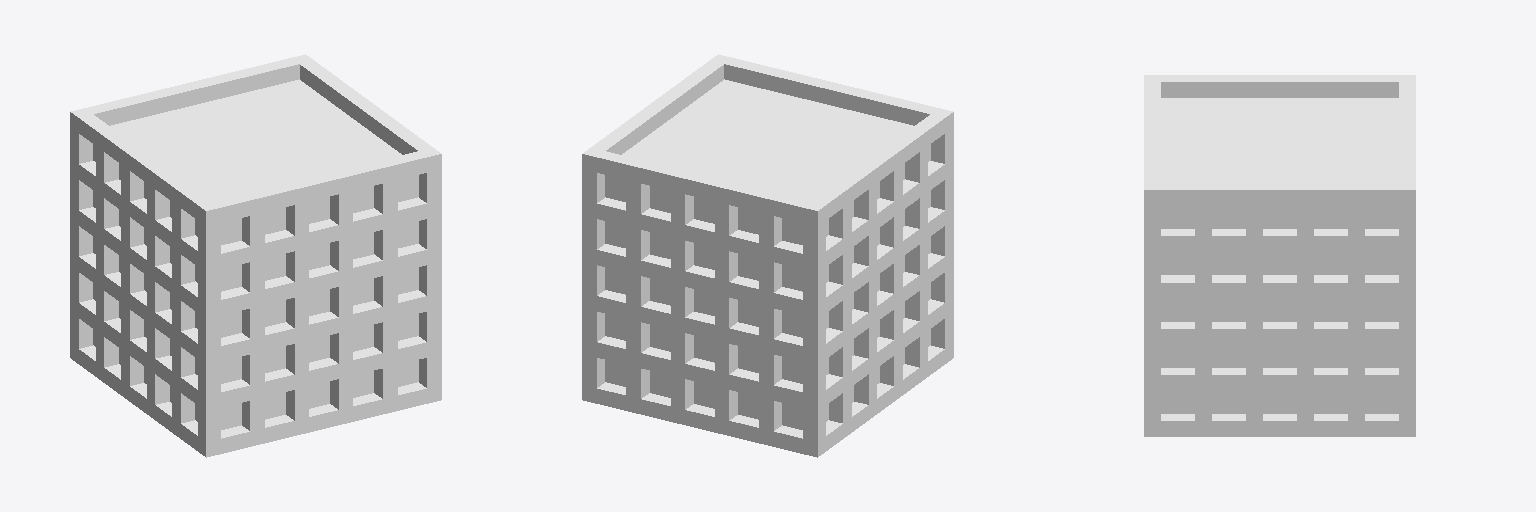
File: BuildingTop.obj
3 views of the same model, side by side, from view 1: azimuth 30°, elevation 25°; view 2: azimuth 150°, elevation 25°; view 3: azimuth 270°, elevation 25° (orthographic).
Parts seen in each view (by area): view 1: object 1; view 2: object 1; view 3: object 1.
Boxes of the visible parts, x1=… form: object 1: x1=70, y1=54, x2=441, y2=457; object 1: x1=582, y1=54, x2=953, y2=457; object 1: x1=1144, y1=75, x2=1415, y2=436.
Bounding box in the file's own units: 1.6 × 1.6 × 1.6.